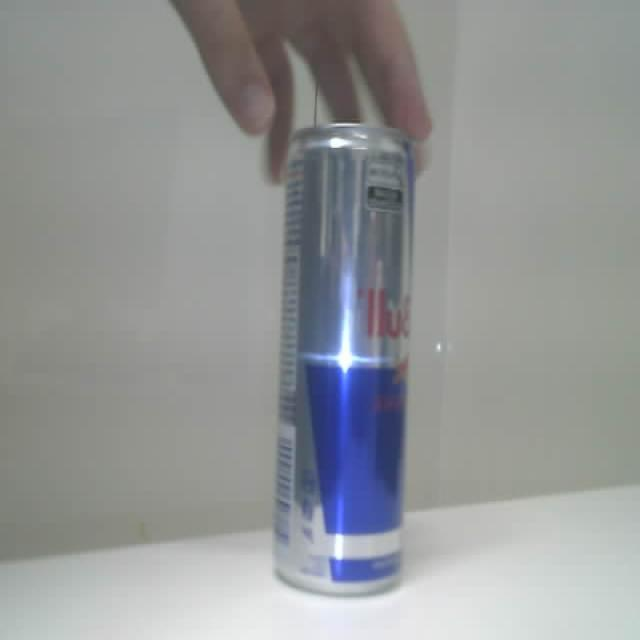redbull can: (274, 124, 414, 594)
